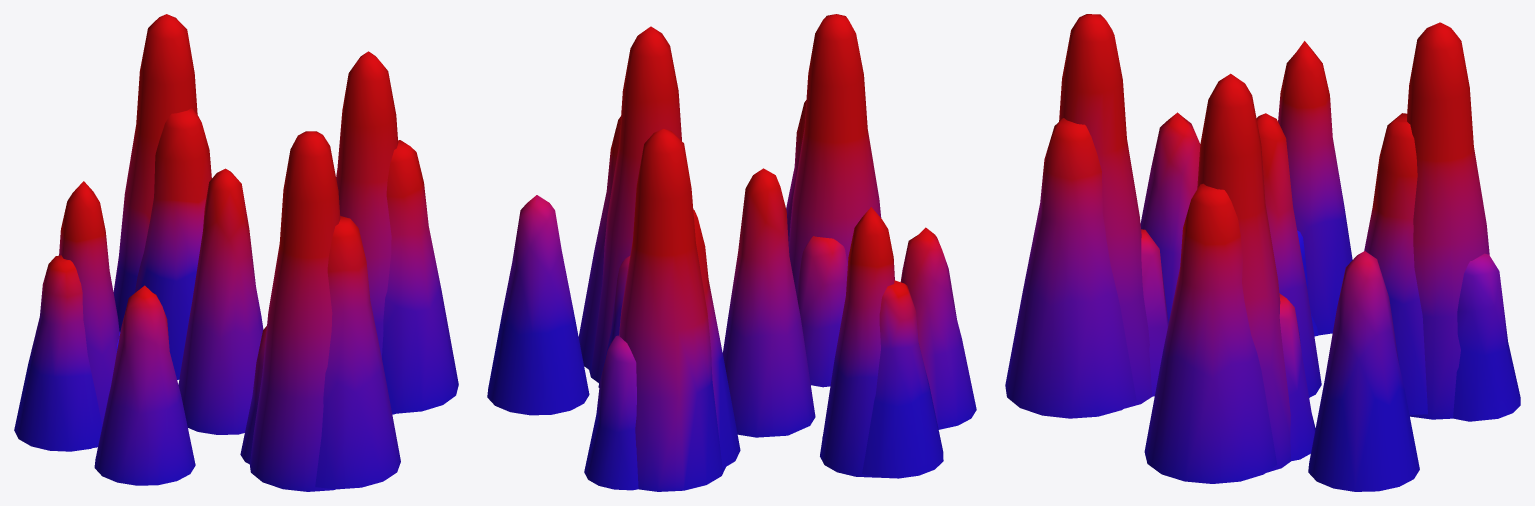
Rendered from Sunken Tomb Spike Cluster.fbx.
The picture shows the model from 3 angles, left to right: view 1: azimuth 30°, elevation 25°; view 2: azimuth 150°, elevation 25°; view 3: azimuth 270°, elevation 25°; orthographic projection. The views are drawn at different scales.
Parts seen in each view (by area): view 1: Stalagtite Cluster; view 2: Stalagtite Cluster; view 3: Stalagtite Cluster.
Part boxes in pixels (x1=…): Stalagtite Cluster: x1=14, y1=14, x2=458, y2=491; Stalagtite Cluster: x1=487, y1=14, x2=976, y2=491; Stalagtite Cluster: x1=1005, y1=14, x2=1520, y2=491.
Size of the model in its own units: 999 by 798 by 983.
